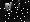person: (6, 5, 12, 15), (16, 2, 20, 12), (11, 4, 15, 14)
